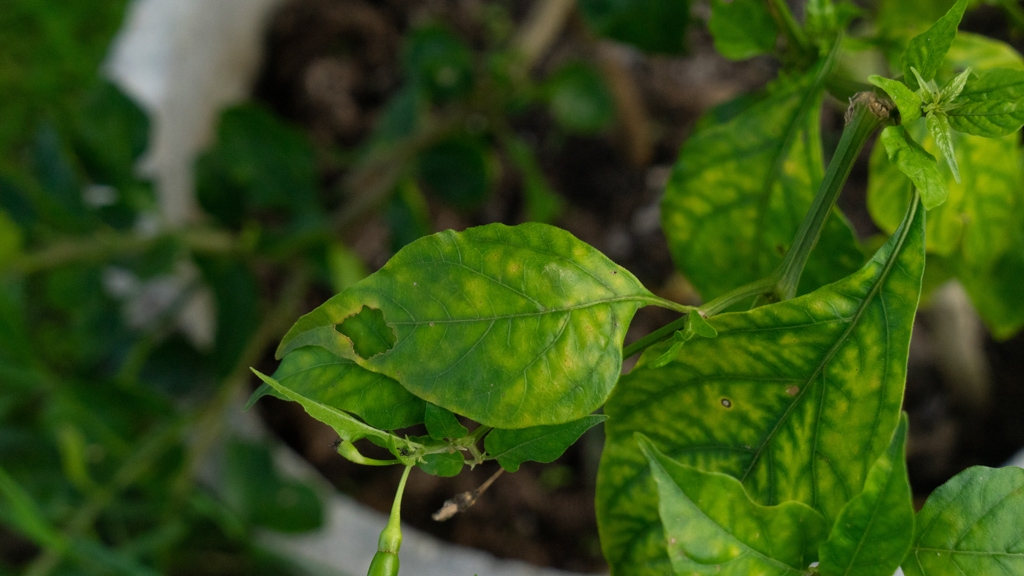frog-eye leafspot: (777, 374, 805, 407), (709, 390, 741, 417), (667, 531, 681, 549)
